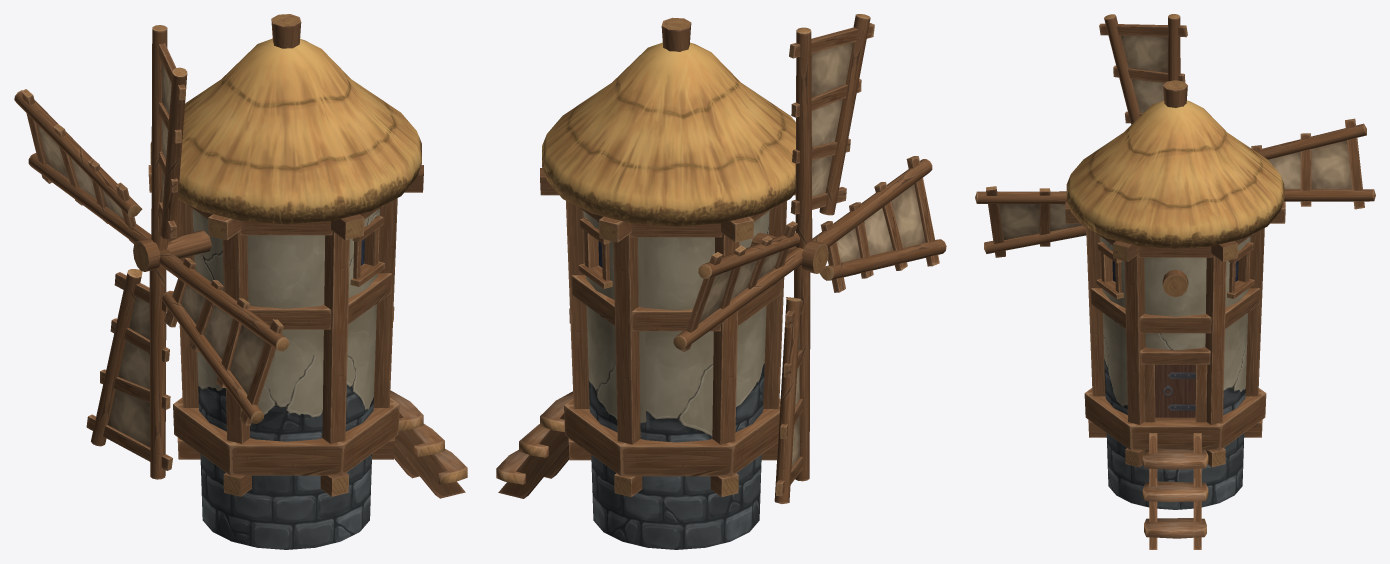
Rendered from Windmill.fbx.
3 views of the same model, side by side, from view 1: azimuth 30°, elevation 25°; view 2: azimuth 150°, elevation 25°; view 3: azimuth 270°, elevation 25° (orthographic). The views are drawn at different scales.
Parts seen in each view (by area): view 1: Windmill1, Wheel; view 2: Windmill1, Wheel; view 3: Windmill1, Wheel.
Boxes of the visible parts, left/top/right/bottom form: Windmill1: left=148, top=14, right=467, bottom=549; Wheel: left=14, top=25, right=289, bottom=479; Windmill1: left=496, top=17, right=795, bottom=549; Wheel: left=673, top=14, right=946, bottom=503; Windmill1: left=1065, top=80, right=1285, bottom=549; Wheel: left=975, top=14, right=1375, bottom=297.
Bounding box in the file's own units: 233 × 365 × 315.
